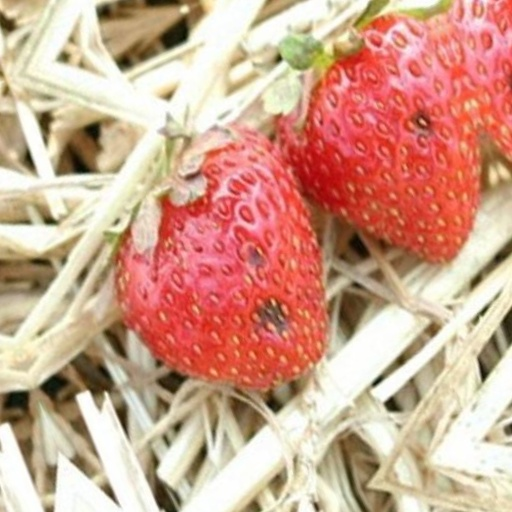Anthracnose Fruit Rot: (227, 244, 276, 342), (444, 177, 477, 210)
